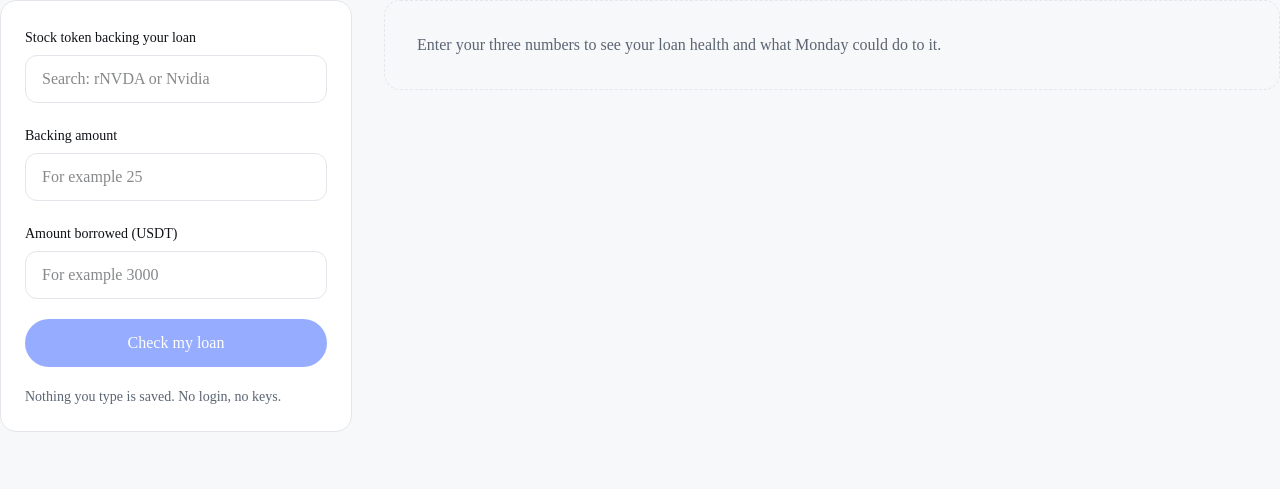
it: Check my loan page › says plainly what went wrong and keeps the form
Type "xyz corp" into the dropdown labelled "Stock token backing your loan".
click(176, 79); type("xyz corp")  # box x1=25 y1=55 x2=327 y2=103
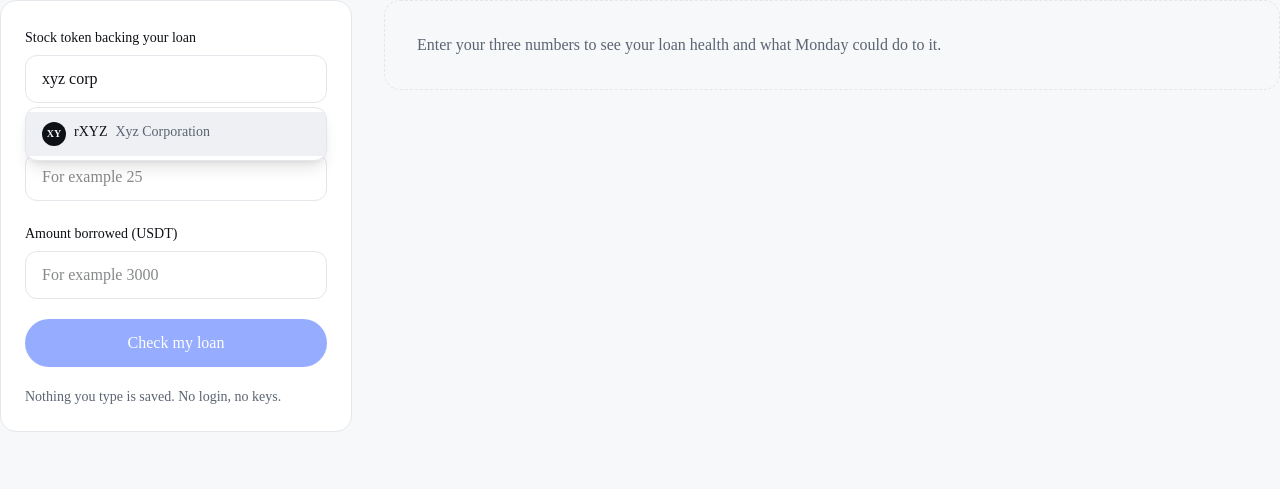
Press the mouse on the option "XY rXYZ Xyz Corporation" at (176, 134), box x1=26 y1=112 x2=326 y2=156
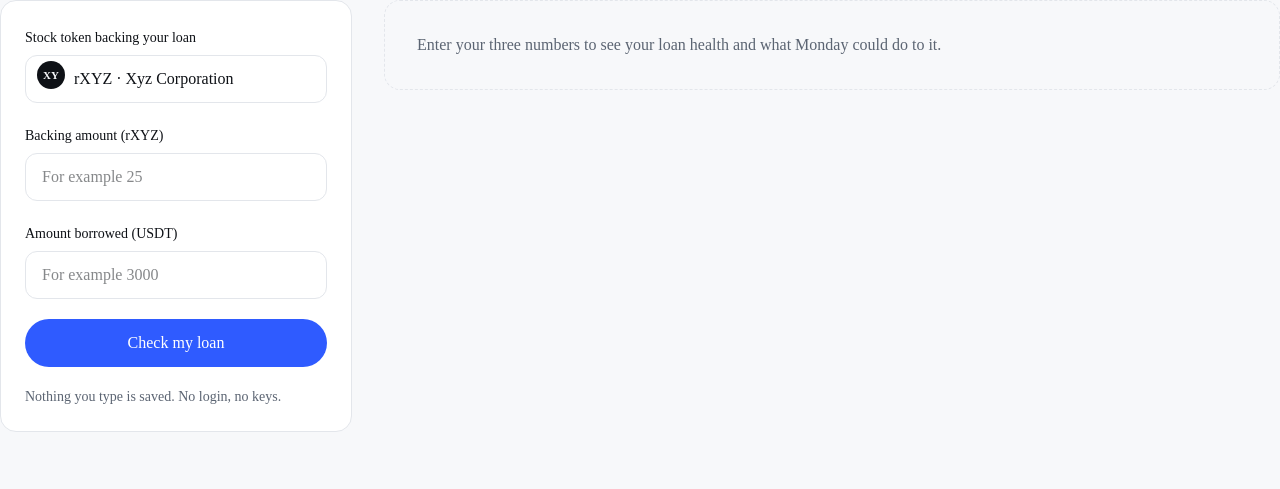
Type "10" into the field labelled "Backing amount (rXYZ)".
click(176, 177); type("10")  # box x1=25 y1=153 x2=327 y2=201
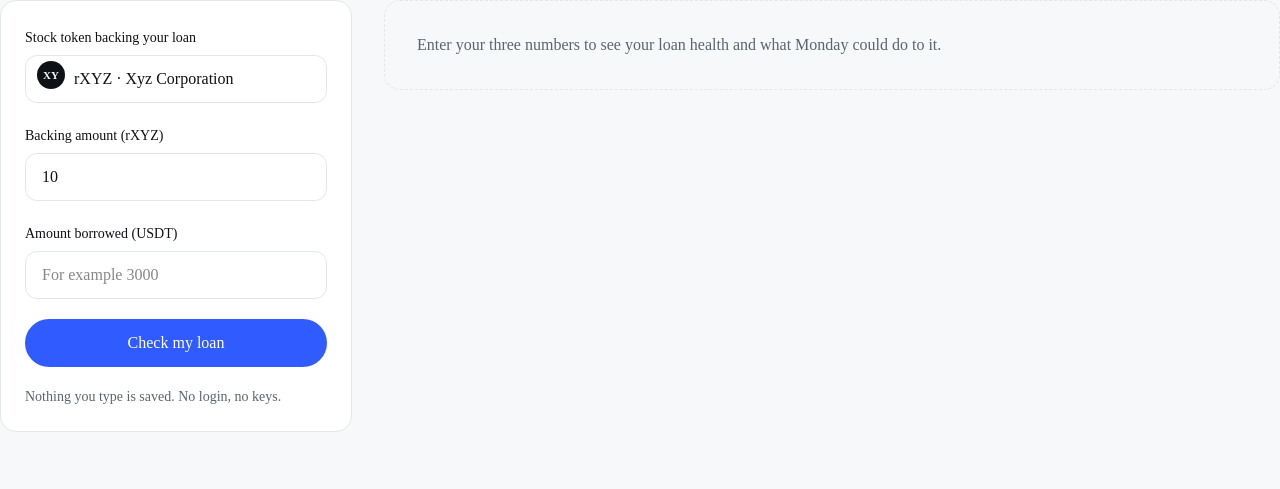
Type "580" into the field labelled "Amount borrowed (USDT)".
click(176, 275); type("580")  # box x1=25 y1=251 x2=327 y2=299
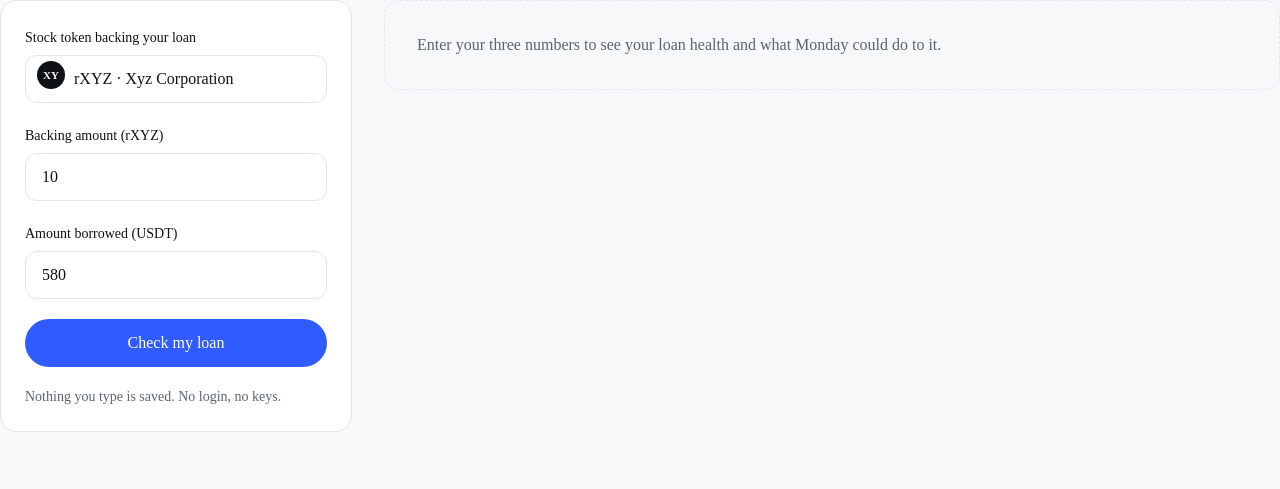
Click the button "Check my loan".
click(176, 343)  # box x1=25 y1=319 x2=327 y2=367
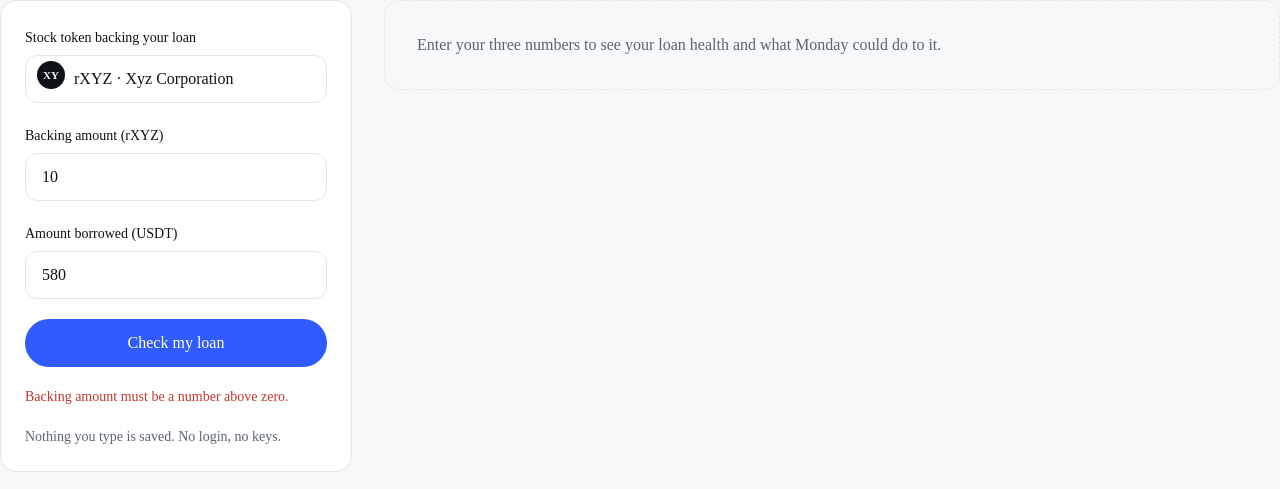
Now the message reads "Backing amount must be a number above zero.", box x1=25 y1=389 x2=289 y2=404
